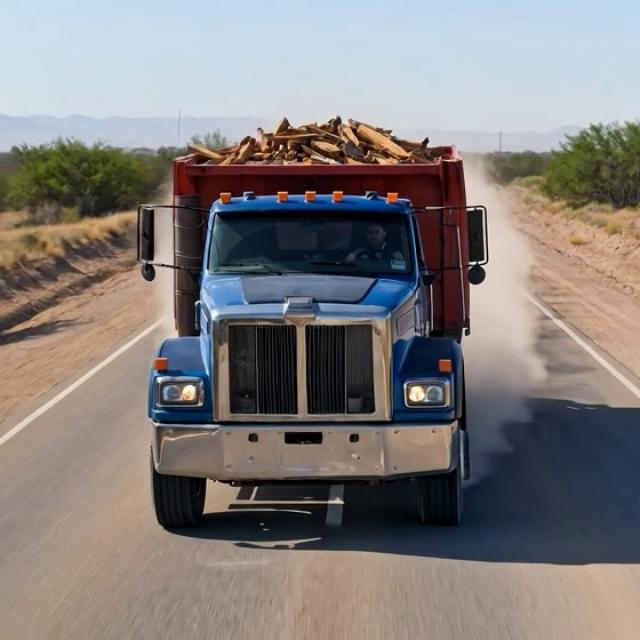Box: (160, 115, 463, 175)
Truck: (130, 98, 489, 530)
